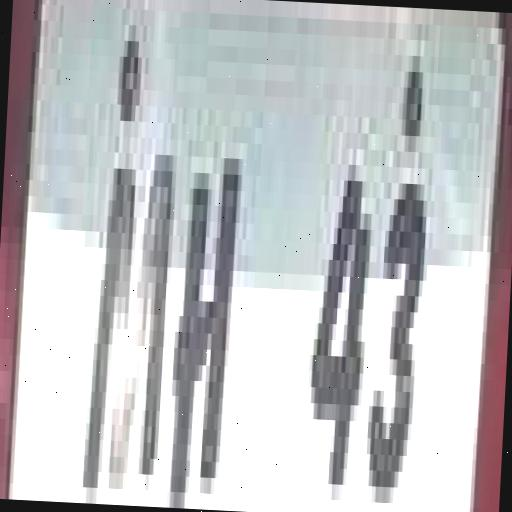number plate: (25, 5, 512, 509)
